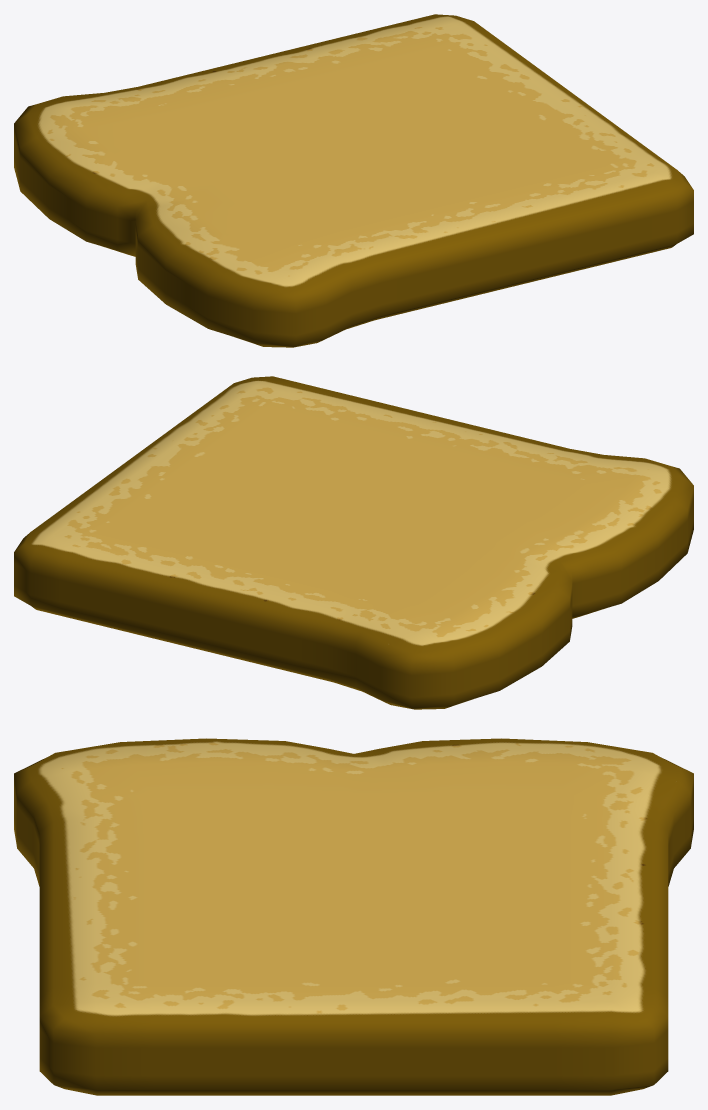
File: Toasted Bread.obj
3 renders of one model, top to bottom at view 1: azimuth 30°, elevation 25°; view 2: azimuth 150°, elevation 25°; view 3: azimuth 270°, elevation 25°, orthographic. The views are drawn at different scales.
Parts seen in each view (by area): view 1: Box001; view 2: Box001; view 3: Box001.
Part boxes in pixels (<box>): Box001: <box>14,14,693,347</box>; Box001: <box>14,376,693,709</box>; Box001: <box>14,738,693,1095</box>.
Size of the model in its own units: 16.45 by 2.18 by 16.07.
